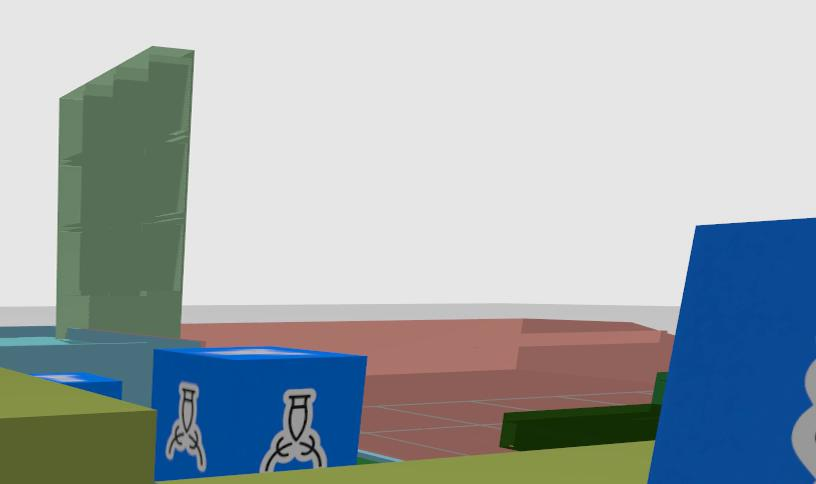KFS_REAL: (647, 218, 815, 484), (151, 346, 365, 480), (261, 390, 325, 471), (165, 381, 206, 472)
